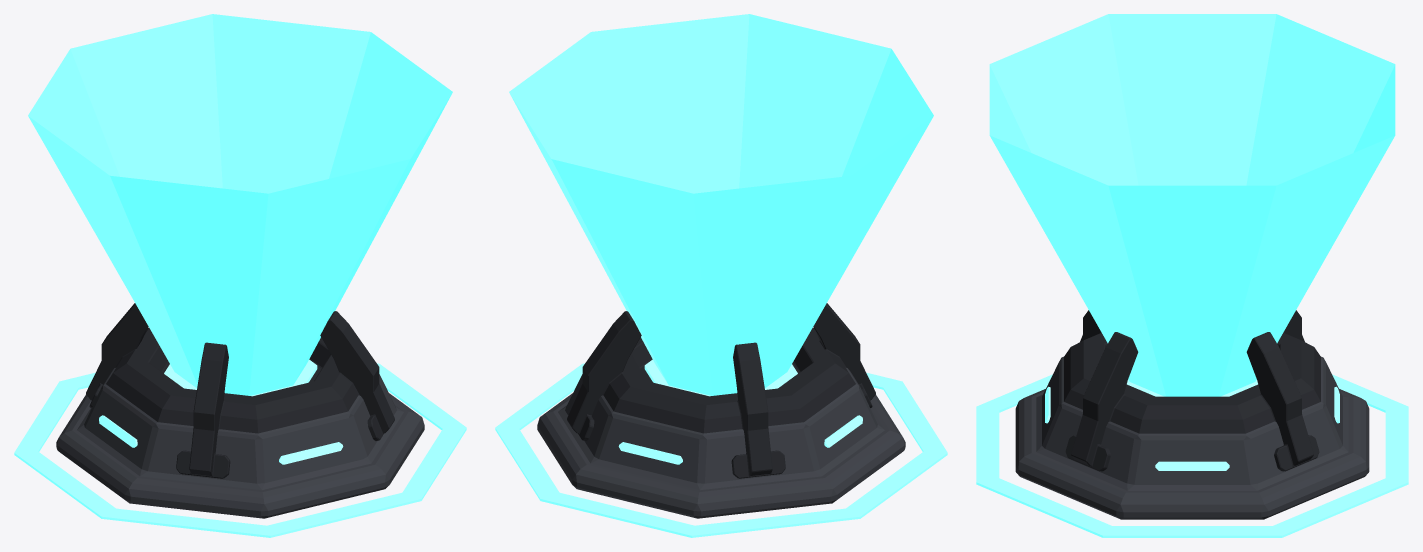
File: HoloProjector_v02.fbx
3 renders of one model, left to right at view 1: azimuth 30°, elevation 25°; view 2: azimuth 150°, elevation 25°; view 3: azimuth 270°, elevation 25°, orthographic. The views are drawn at different scales.
Visible parts, largest first — view 1: Holo_Cone, Base_Body, Base_Trim, Holo_Ring, Base_Light; view 2: Holo_Cone, Base_Body, Base_Trim, Holo_Ring, Base_Light; view 3: Holo_Cone, Base_Body, Base_Trim, Holo_Ring, Base_Light.
Boxes of the visible parts, x1=… form: Holo_Cone: x1=28, y1=14, x2=452, y2=395; Base_Body: x1=56, y1=368, x2=424, y2=518; Base_Trim: x1=86, y1=303, x2=394, y2=478; Holo_Ring: x1=14, y1=363, x2=466, y2=537; Base_Light: x1=99, y1=359, x2=343, y2=464; Holo_Cone: x1=509, y1=14, x2=933, y2=395; Base_Body: x1=537, y1=368, x2=905, y2=518; Base_Trim: x1=567, y1=303, x2=875, y2=478; Holo_Ring: x1=495, y1=363, x2=947, y2=537; Base_Light: x1=618, y1=359, x2=862, y2=464; Holo_Cone: x1=989, y1=14, x2=1395, y2=396; Base_Body: x1=1015, y1=356, x2=1369, y2=519; Base_Trim: x1=1064, y1=310, x2=1320, y2=471; Holo_Ring: x1=976, y1=374, x2=1408, y2=537; Base_Light: x1=1045, y1=379, x2=1339, y2=470.
Size of the model in its own units: 6.1 by 5.4 by 6.1.
